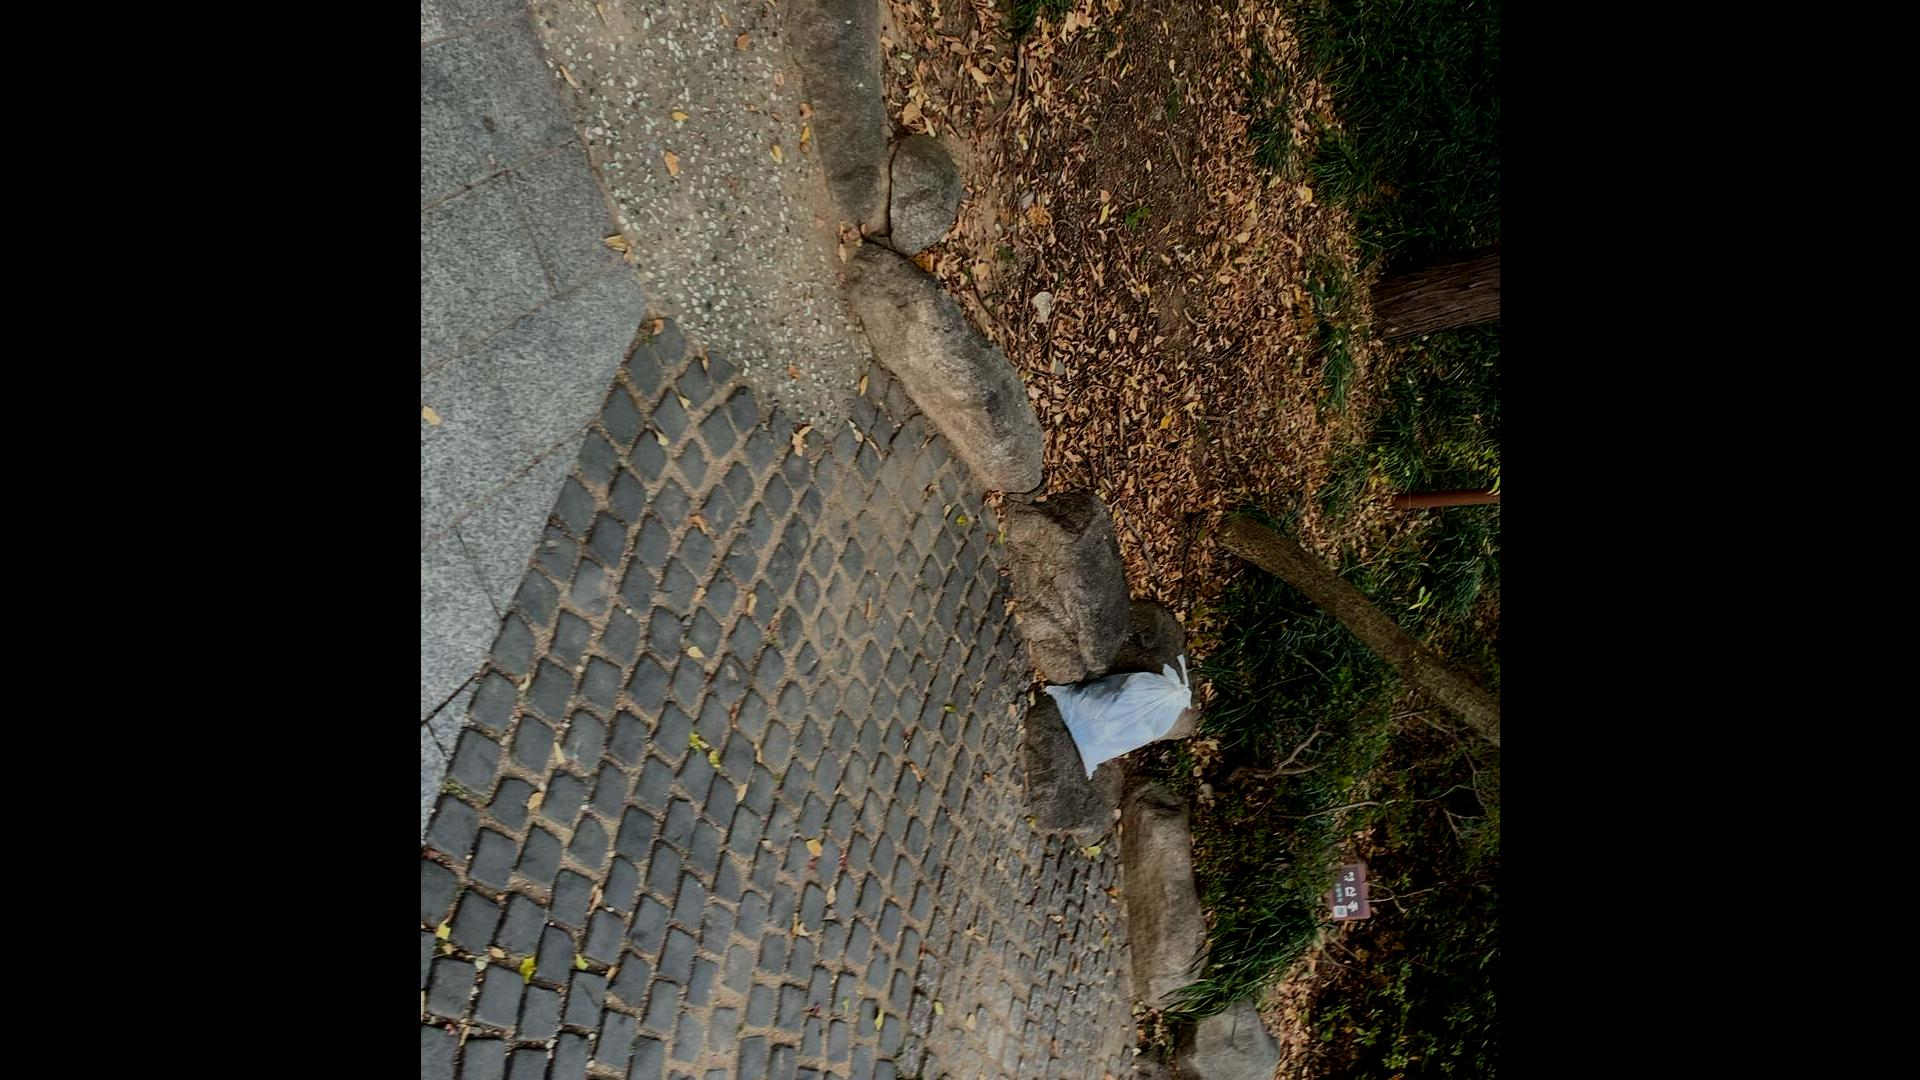white_bag: (1048, 651, 1195, 789)
